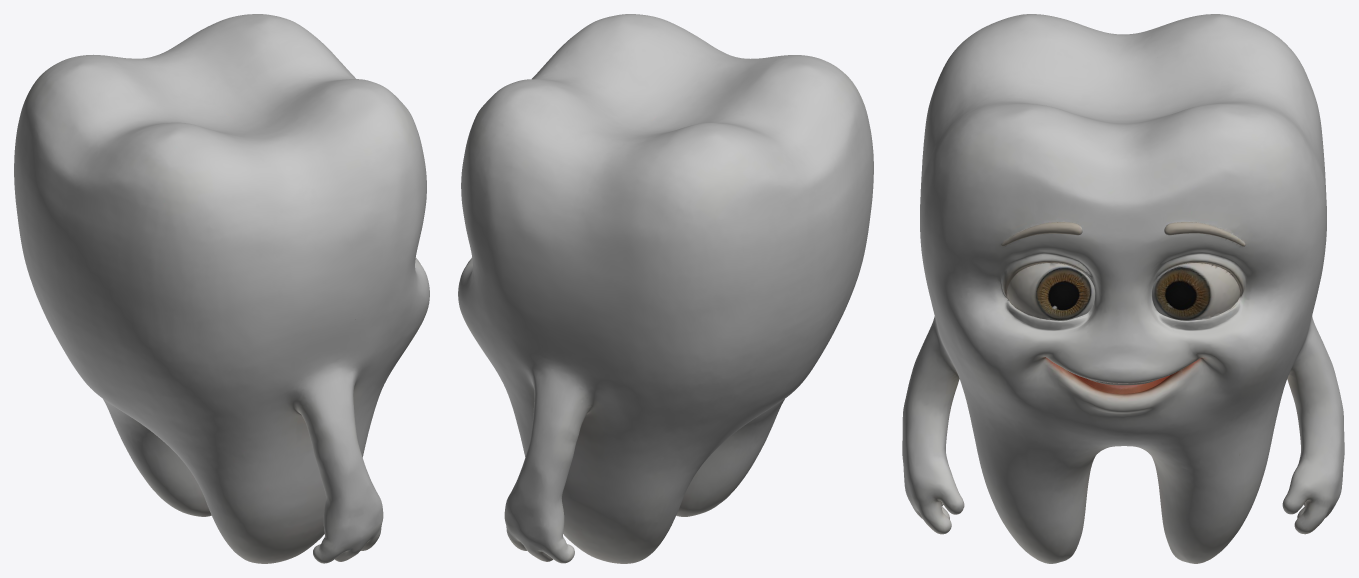
The model's file is glbData_1780604955578_laii0.glb.
3 views of the same model, side by side, from view 1: azimuth 30°, elevation 25°; view 2: azimuth 150°, elevation 25°; view 3: azimuth 270°, elevation 25° (orthographic). The views are drawn at different scales.
Parts seen in each view (by area): view 1: tripo_node_e0e464f6-0a4c-45d6-92dc-3e74ca638b77; view 2: tripo_node_e0e464f6-0a4c-45d6-92dc-3e74ca638b77; view 3: tripo_node_e0e464f6-0a4c-45d6-92dc-3e74ca638b77.
Part boxes in pixels (x1,y1,x2,y2): tripo_node_e0e464f6-0a4c-45d6-92dc-3e74ca638b77: (14, 14, 429, 563); tripo_node_e0e464f6-0a4c-45d6-92dc-3e74ca638b77: (458, 14, 873, 563); tripo_node_e0e464f6-0a4c-45d6-92dc-3e74ca638b77: (902, 14, 1344, 563).
Bounding box in the file's own units: 0.7646 × 1 × 0.827.
Materials: 1 (1 with a texture image).
